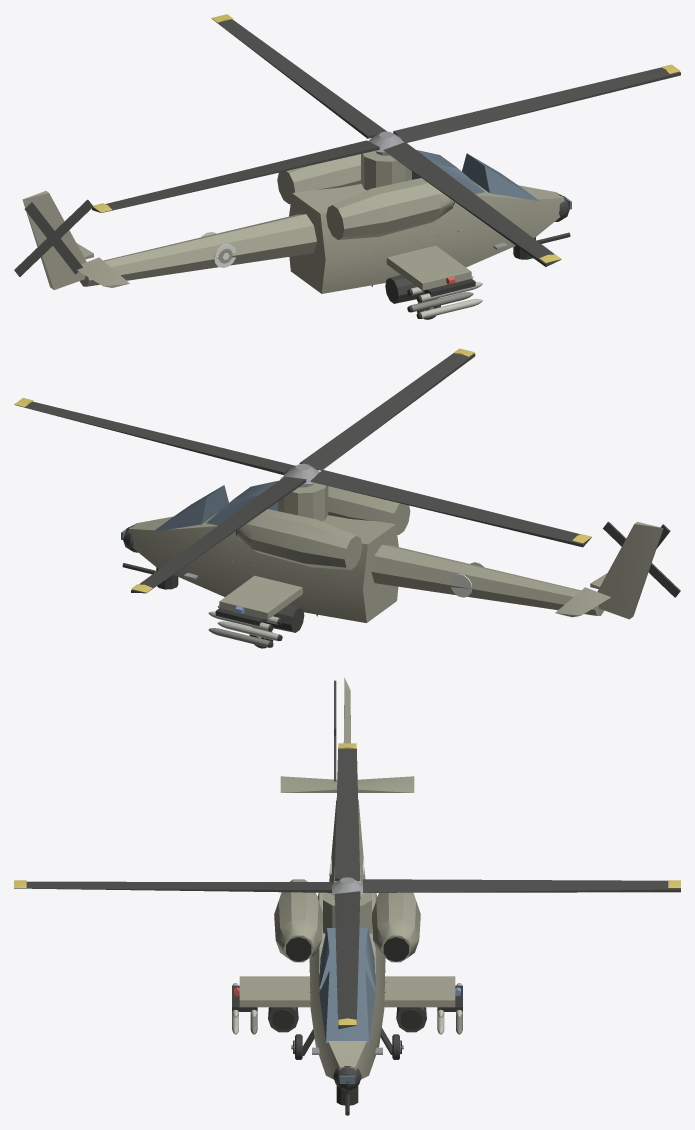
File: heli.glb
3 views of the same model, one above another, from view 1: azimuth 30°, elevation 25°; view 2: azimuth 150°, elevation 25°; view 3: azimuth 270°, elevation 25° (orthographic).
Visible parts, largest first — view 1: hull, turret; view 2: hull, turret; view 3: hull, turret.
Boxes of the visible parts, box(x1,y1,x2,y2) form: hull: box(14, 150, 571, 319); turret: box(92, 14, 680, 266); hull: box(121, 477, 680, 648); turret: box(14, 348, 591, 593); hull: box(232, 677, 462, 1115); turret: box(14, 743, 680, 1029).
Size of the model in its own units: 14.98 by 4.2 by 13.
